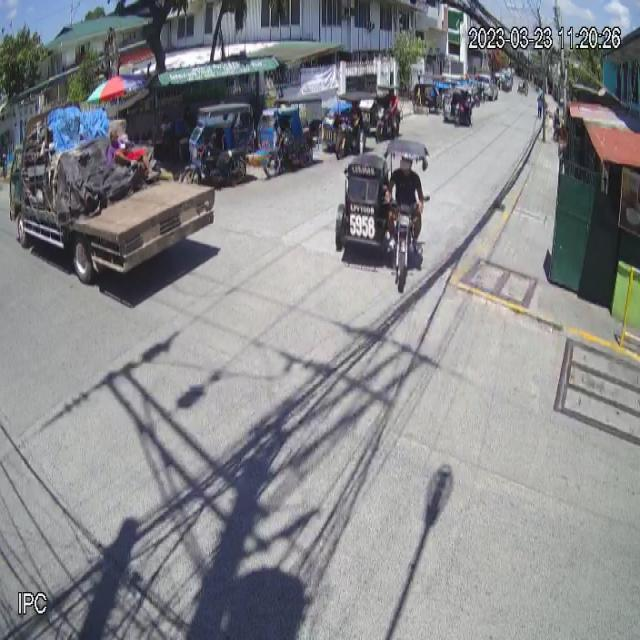Tricycle: (334, 138, 431, 294)
Truck: (8, 110, 218, 285)
